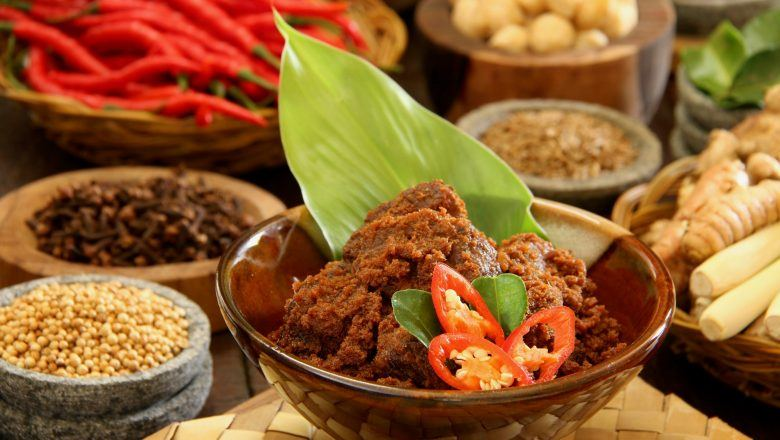rendang: (255, 197, 660, 411)
